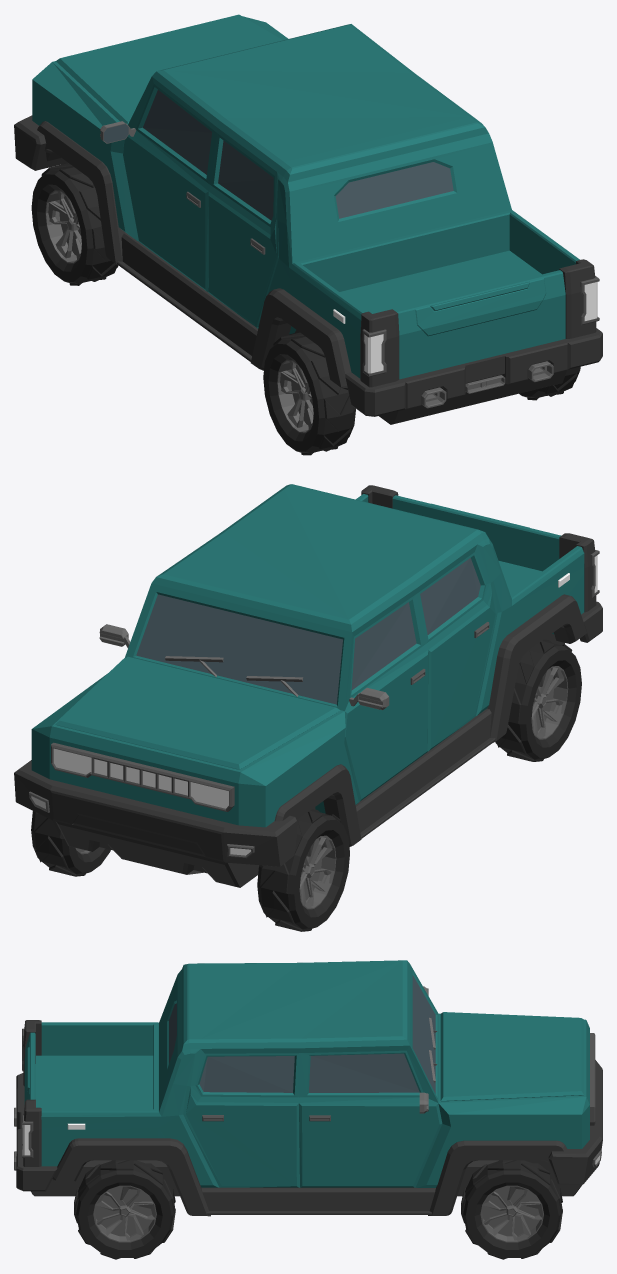
File: lp-suv-blue.glb
3 renders of one model, top to bottom at view 1: azimuth 30°, elevation 25°; view 2: azimuth 150°, elevation 25°; view 3: azimuth 270°, elevation 25°, orthographic. The views are drawn at different scales.
Visible parts, largest first — view 1: lp-suv-blue; view 2: lp-suv-blue; view 3: lp-suv-blue.
Part boxes in pixels (x1,y1,x2,y2): lp-suv-blue: [14, 14, 602, 455]; lp-suv-blue: [14, 484, 602, 931]; lp-suv-blue: [14, 960, 602, 1259].
Bounding box in the file's own units: 2.32 × 1.95 × 4.95.
Materials: 1 (1 with a texture image).
